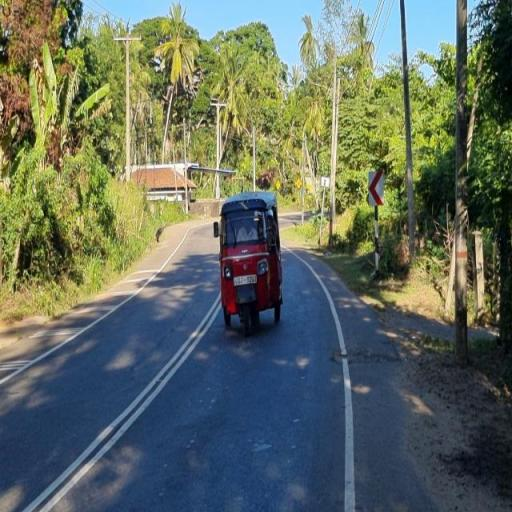double_white_line: (18, 297, 219, 510)
